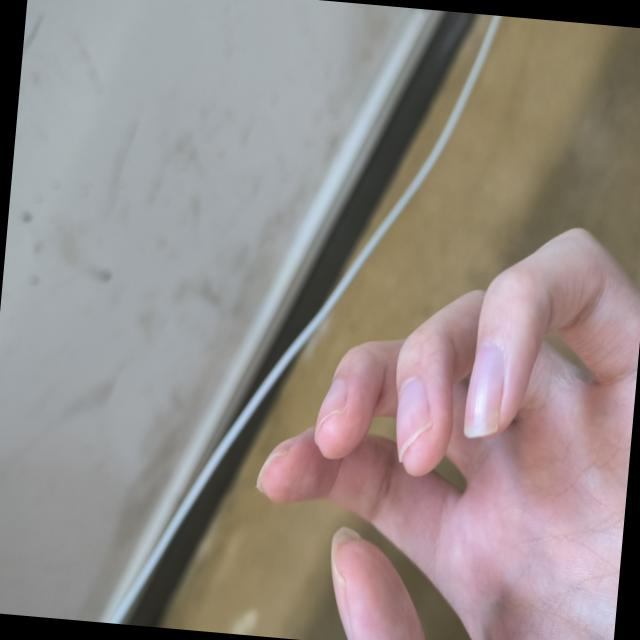Nail: (464, 339, 504, 436), (396, 375, 431, 460), (314, 378, 347, 439), (331, 551, 353, 640), (257, 434, 298, 478)
